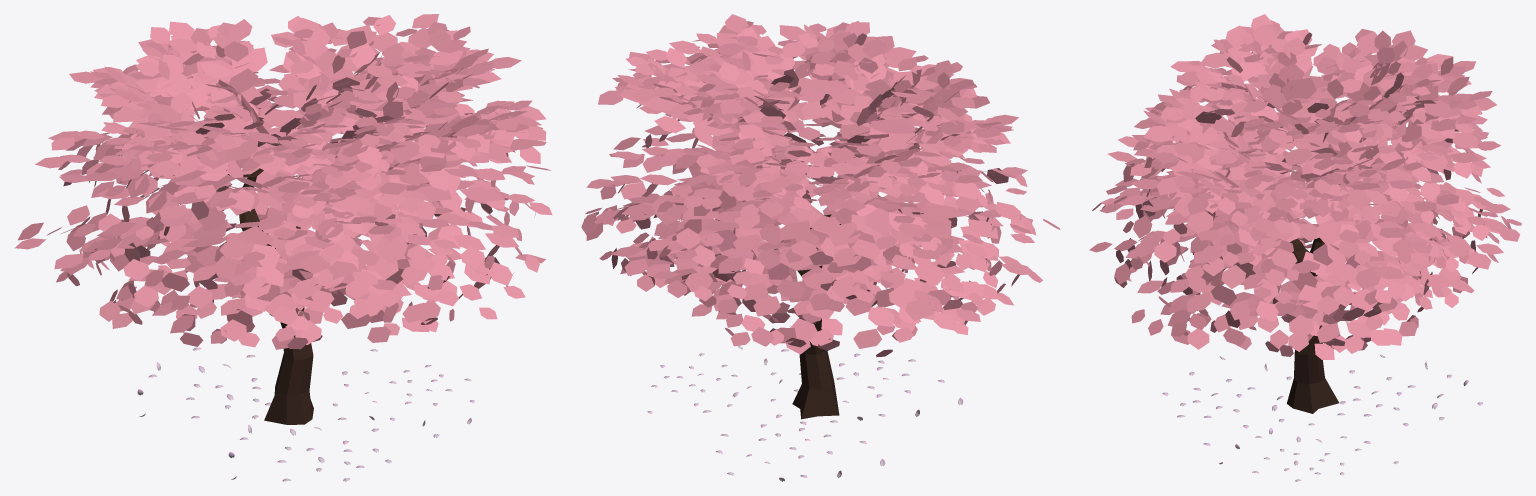
File: sakuranoki_1ver2.glb
3 views of the same model, side by side, from view 1: azimuth 30°, elevation 25°; view 2: azimuth 150°, elevation 25°; view 3: azimuth 270°, elevation 25° (orthographic). The views are drawn at different scales.
Parts seen in each view (by area): view 1: leaves.001, 円; view 2: leaves.001, 円; view 3: leaves.001, 円.
Boxes of the visible parts, bbox=[...] form: leaves.001: bbox=[14, 14, 552, 349]; 円: bbox=[227, 168, 313, 424]; leaves.001: bbox=[581, 14, 1060, 357]; 円: bbox=[792, 214, 840, 419]; leaves.001: bbox=[1089, 14, 1521, 359]; 円: bbox=[1287, 237, 1338, 413].
Bounding box in the file's own units: 1.64 × 1.24 × 1.42.
Materials: 4 (2 with a texture image).
